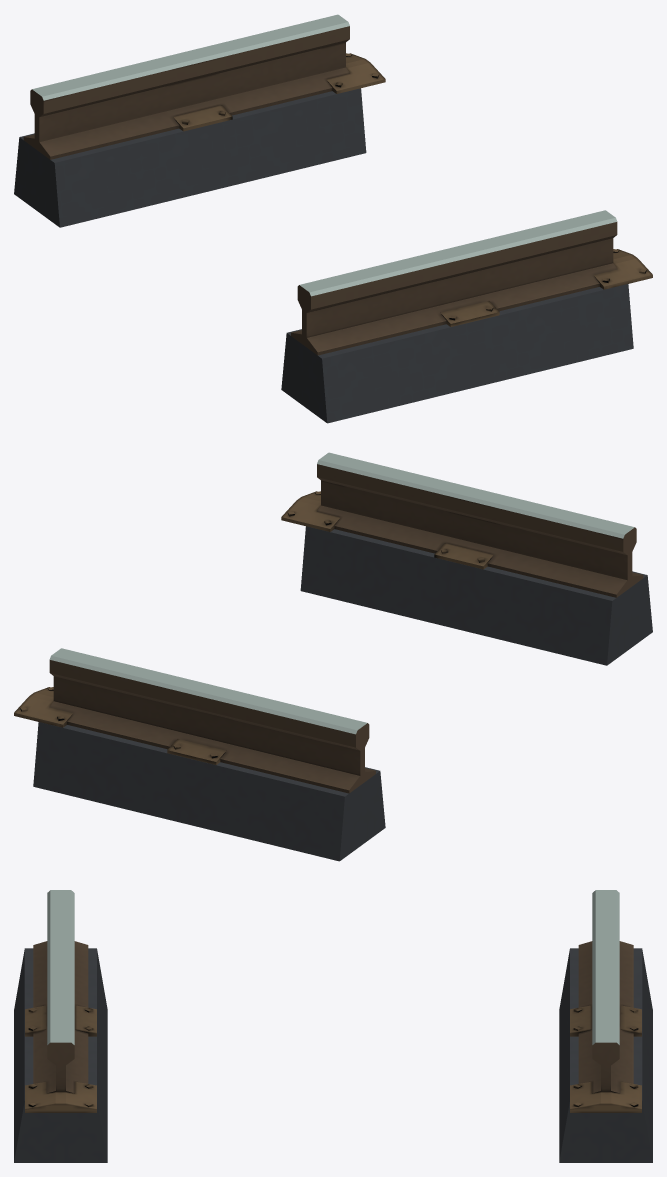
The model's file is spsf_railsonly.obj.
The picture shows the model from 3 angles, top to bottom: view 1: azimuth 30°, elevation 25°; view 2: azimuth 150°, elevation 25°; view 3: azimuth 270°, elevation 25°; orthographic projection.
Visible parts, largest first — view 1: RAIL_BASE_Cube, RAIL_RIGHT_Cube.010, RAIL_BASE.001_Cube.004; view 2: RAIL_BASE_Cube, RAIL_RIGHT_Cube.010, RAIL_BASE.001_Cube.004; view 3: RAIL_BASE_Cube, RAIL_RIGHT_Cube.010, RAIL_BASE.001_Cube.004.
Part boxes in pixels (x1=…): RAIL_BASE_Cube: x1=14, y1=88, x2=633, y2=423; RAIL_RIGHT_Cube.010: x1=23, y1=14, x2=617, y2=355; RAIL_BASE.001_Cube.004: x1=173, y1=53, x2=652, y2=326; RAIL_BASE_Cube: x1=33, y1=526, x2=652, y2=861; RAIL_RIGHT_Cube.010: x1=49, y1=452, x2=643, y2=793; RAIL_BASE.001_Cube.004: x1=14, y1=491, x2=493, y2=764; RAIL_BASE_Cube: x1=14, y1=948, x2=652, y2=1162; RAIL_RIGHT_Cube.010: x1=33, y1=890, x2=633, y2=1093; RAIL_BASE.001_Cube.004: x1=25, y1=1005, x2=641, y2=1112.
Bounding box in the file's own units: 1.08 × 0.368 × 1.77.
1 material, 1 textured.
